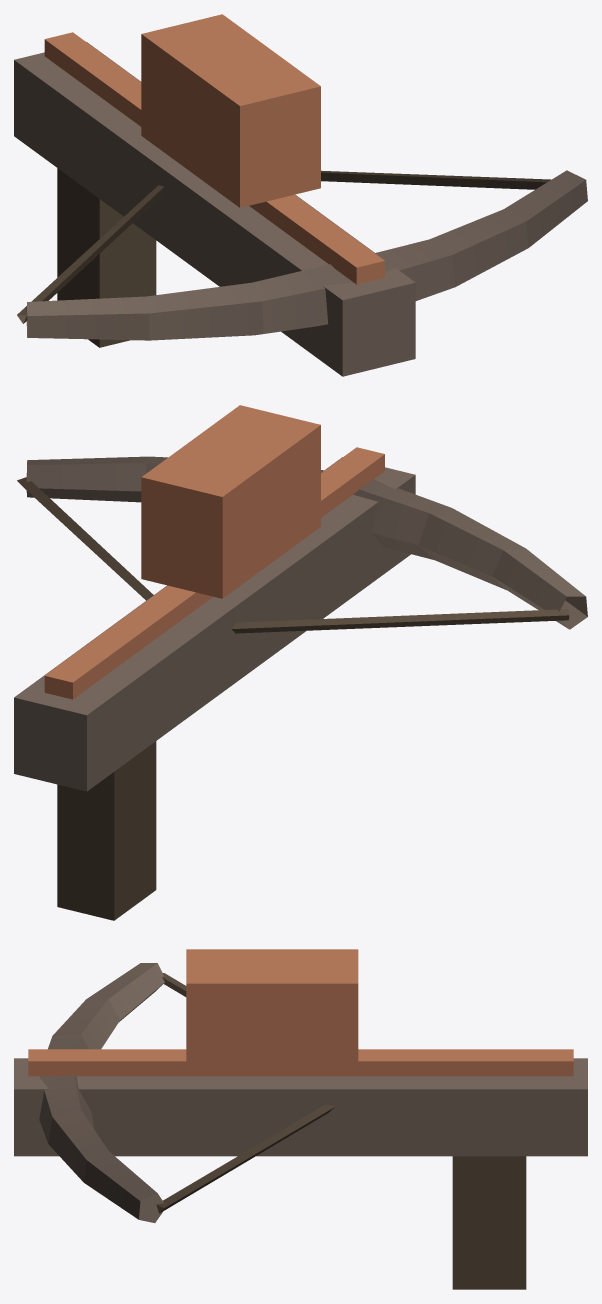
File: ranger_repeater_0.gltf
3 views of the same model, one above another, from view 1: azimuth 30°, elevation 25°; view 2: azimuth 150°, elevation 25°; view 3: azimuth 270°, elevation 25° (orthographic). The views are drawn at different scales.
Parts seen in each view (by area): view 1: ranger_repeater_0; view 2: ranger_repeater_0; view 3: ranger_repeater_0.
Boxes of the visible parts, x1,y1,x2,y2 form: ranger_repeater_0: (14, 14, 587, 376); ranger_repeater_0: (14, 405, 587, 920); ranger_repeater_0: (14, 949, 587, 1289).
Size of the model in its own units: 0.6914 by 0.42 by 0.702.
Materials: 1 (1 with a texture image).
